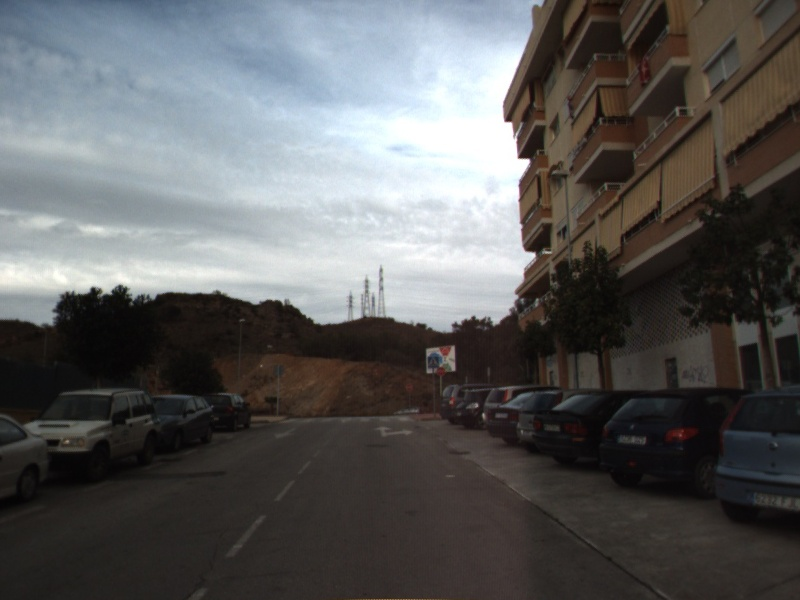STRAIGHT_RIGHT: (372, 423, 416, 439)
